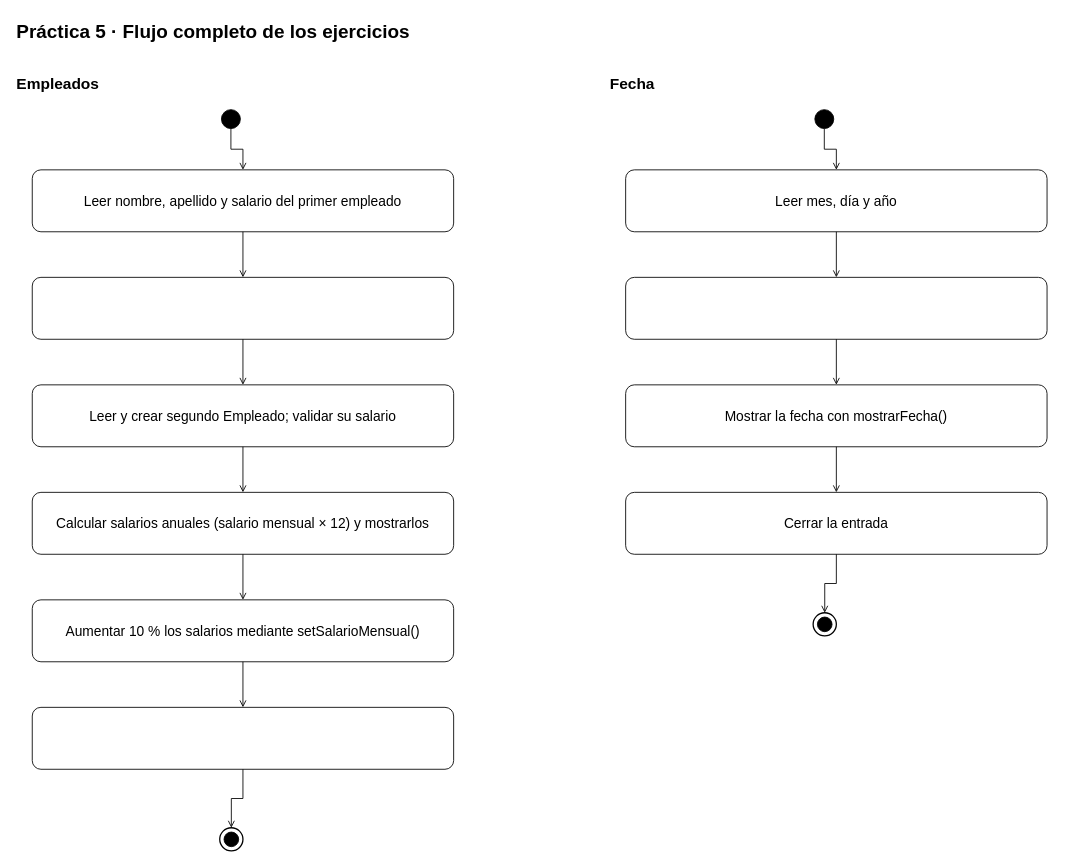
This 1070x866 diagram has some shape labels left out. The shapes that lost their labels are listed below. From the top down, each one's centre as x and y in pixels, then its label:
At point 242,307: "Crear primer Empleado y validar salario con setSalarioMensual()".
At point 836,307: "Construir Fecha(mes, dia, anio)".
At point 242,737: "Calcular y mostrar los nuevos salarios anuales; cerrar entrada".
